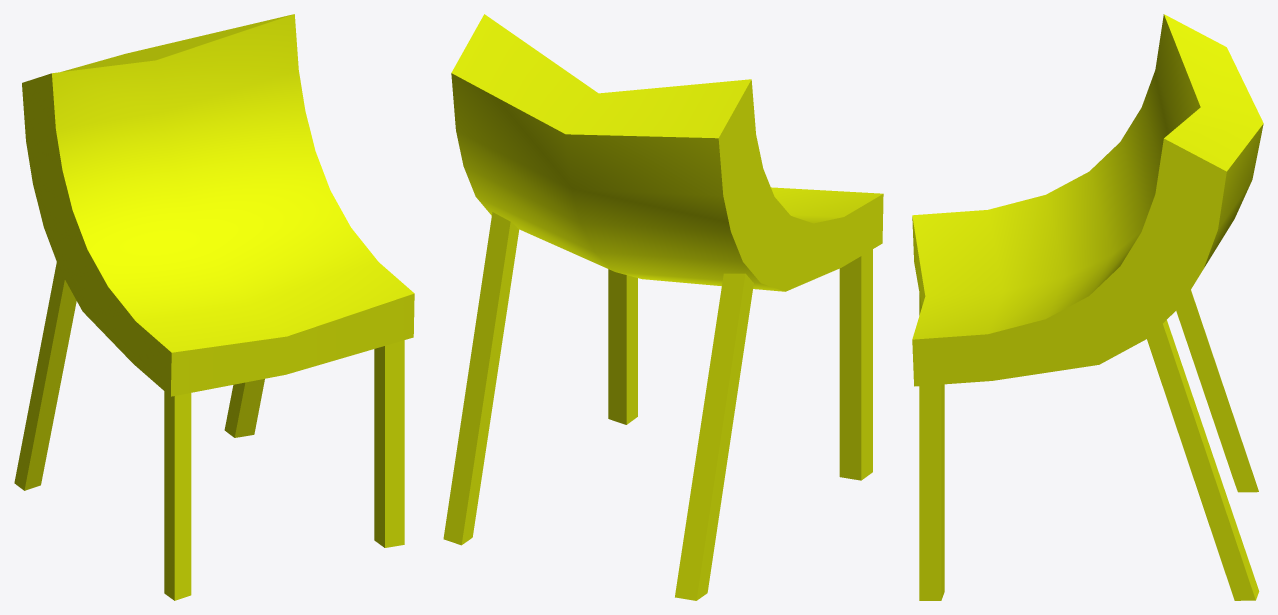
File: Chair2.FBX
3 views of the same model, side by side, from view 1: azimuth 30°, elevation 25°; view 2: azimuth 150°, elevation 25°; view 3: azimuth 270°, elevation 25° (orthographic). The views are drawn at different scales.
Parts seen in each view (by area): view 1: Box012; view 2: Box012; view 3: Box012.
Boxes of the visible parts, x1,y1,x2,y2 form: Box012: (14, 14, 414, 600); Box012: (443, 14, 883, 600); Box012: (912, 14, 1263, 600).
Size of the model in its own units: 0.6593 by 1.15 by 0.787.
